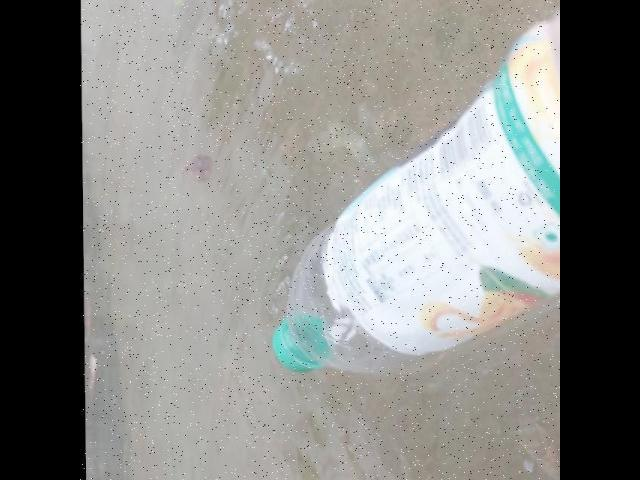Bottle: (264, 5, 560, 377)
